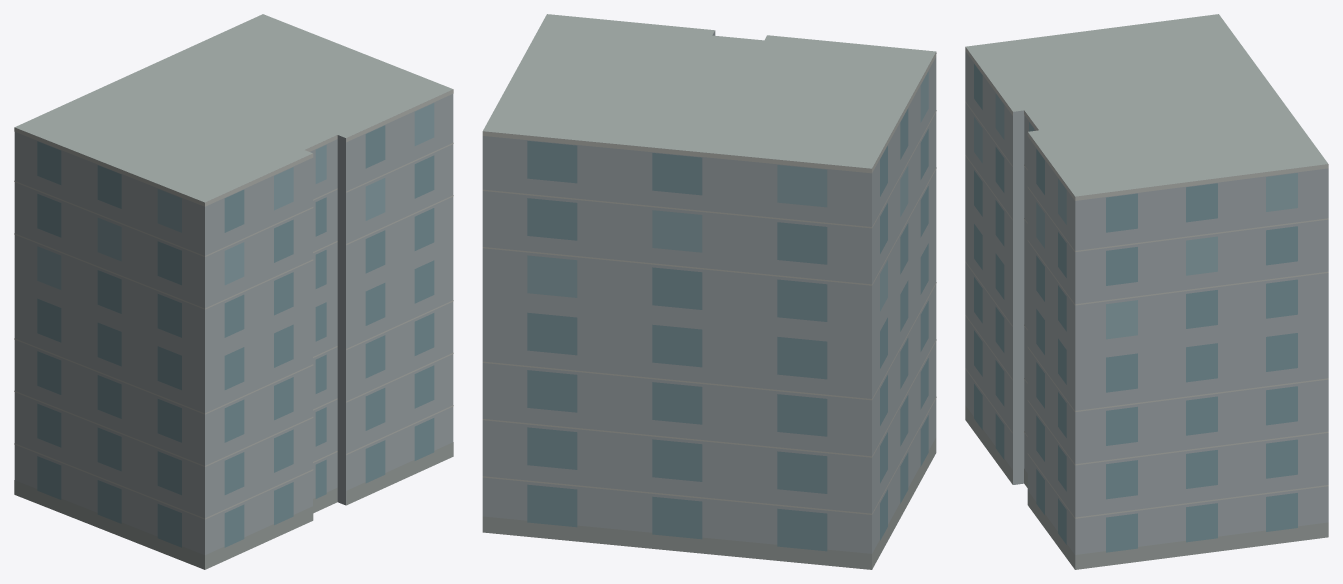
Rendered from survey-upis-32709093.glb.
The picture shows the model from 3 angles, left to right: view 1: azimuth 30°, elevation 25°; view 2: azimuth 150°, elevation 25°; view 3: azimuth 270°, elevation 25°; orthographic projection. The views are drawn at different scales.
Visible parts, largest first — view 1: survey-upis-32709093.tmp; view 2: survey-upis-32709093.tmp; view 3: survey-upis-32709093.tmp.
Boxes of the visible parts, x1=… form: survey-upis-32709093.tmp: x1=14, y1=14, x2=453, y2=569; survey-upis-32709093.tmp: x1=482, y1=14, x2=936, y2=569; survey-upis-32709093.tmp: x1=965, y1=14, x2=1328, y2=569.
Size of the model in its own units: 21.95 by 20.9 by 18.45.
